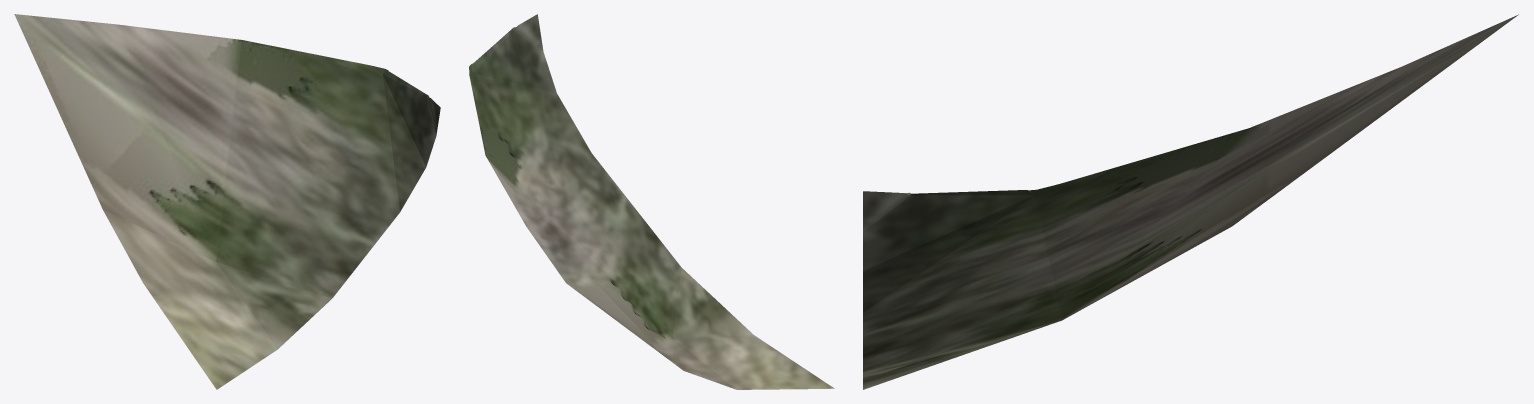
The picture shows the model from 3 angles, left to right: view 1: azimuth 30°, elevation 25°; view 2: azimuth 150°, elevation 25°; view 3: azimuth 270°, elevation 25°; orthographic projection. The views are drawn at different scales.
Bounding box in the file's own units: 3.14 × 3 × 4.84.
Materials: 1 (1 with a texture image).
